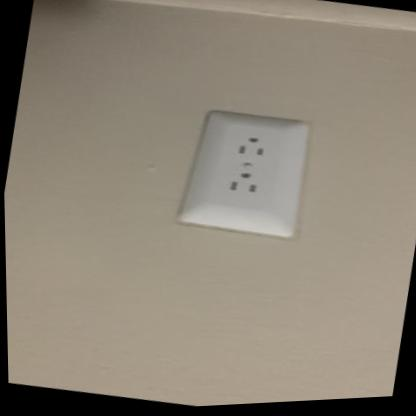OUTLET: (172, 104, 313, 243)
